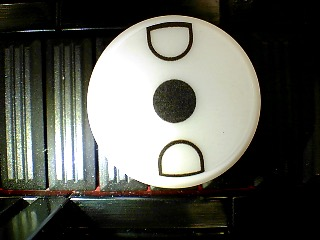BOHOMIPO2: (86, 14, 261, 189)
